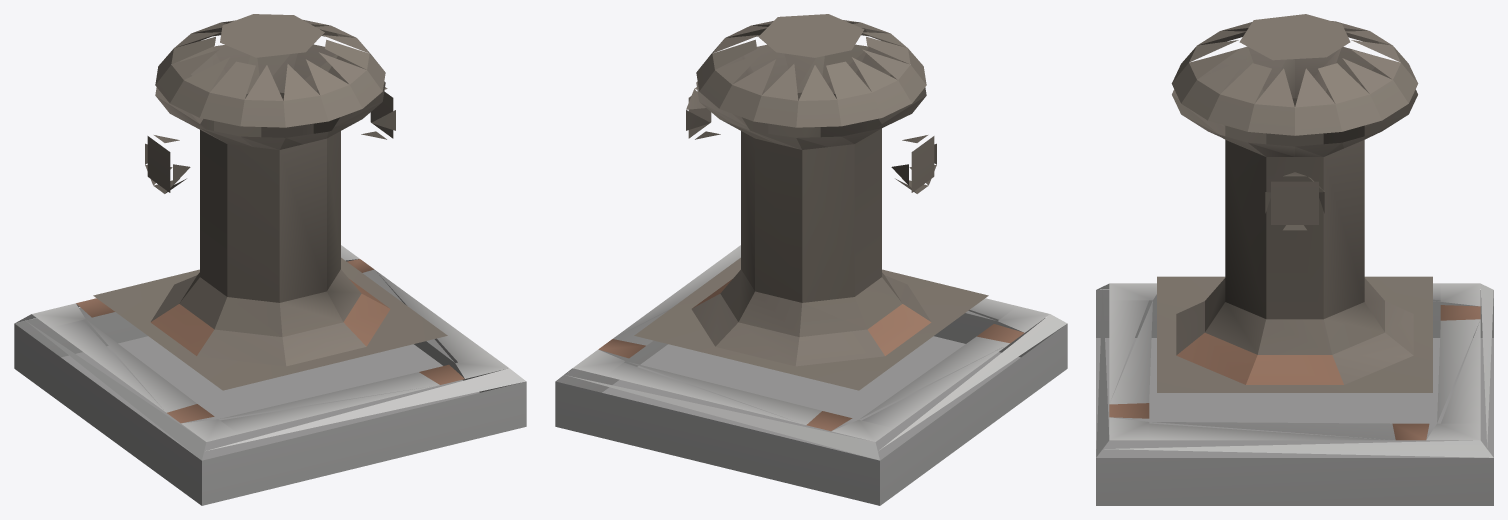
The model's file is bollard.lod.glb.
3 renders of one model, left to right at view 1: azimuth 30°, elevation 25°; view 2: azimuth 150°, elevation 25°; view 3: azimuth 270°, elevation 25°, orthographic. The views are drawn at different scales.
Visible parts, largest first — view 1: bollard.001; view 2: bollard.001; view 3: bollard.001.
Part boxes in pixels (<box>): bollard.001: <box>14,14,526,505</box>; bollard.001: <box>555,14,1067,505</box>; bollard.001: <box>1096,14,1493,505</box>.
Size of the model in its own units: 0.48 by 0.512 by 0.48.
